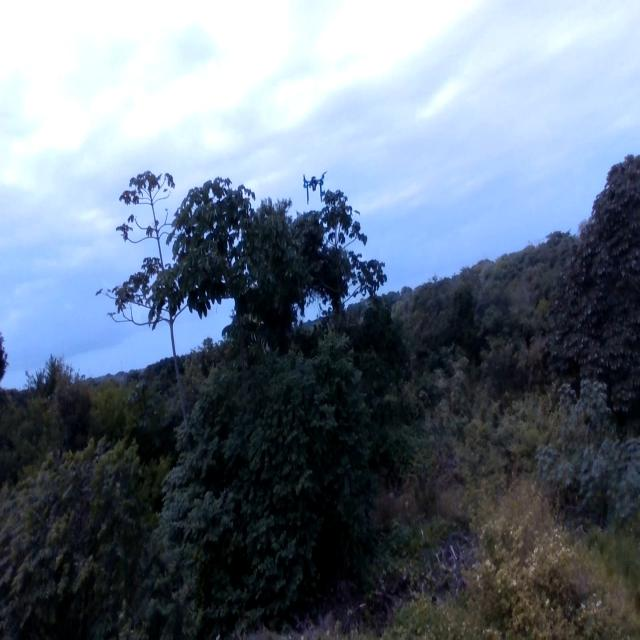-uav-: (296, 163, 334, 209)
